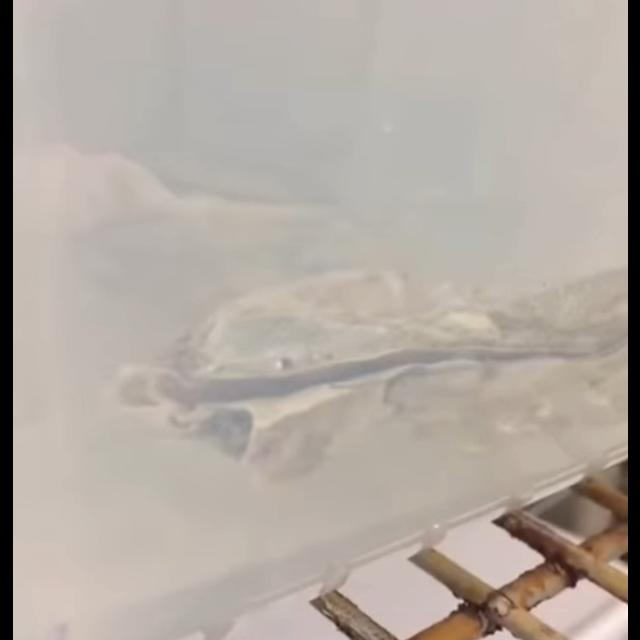Oyster-Closed: (54, 136, 348, 258)
Oyster-Open: (106, 267, 628, 483)
